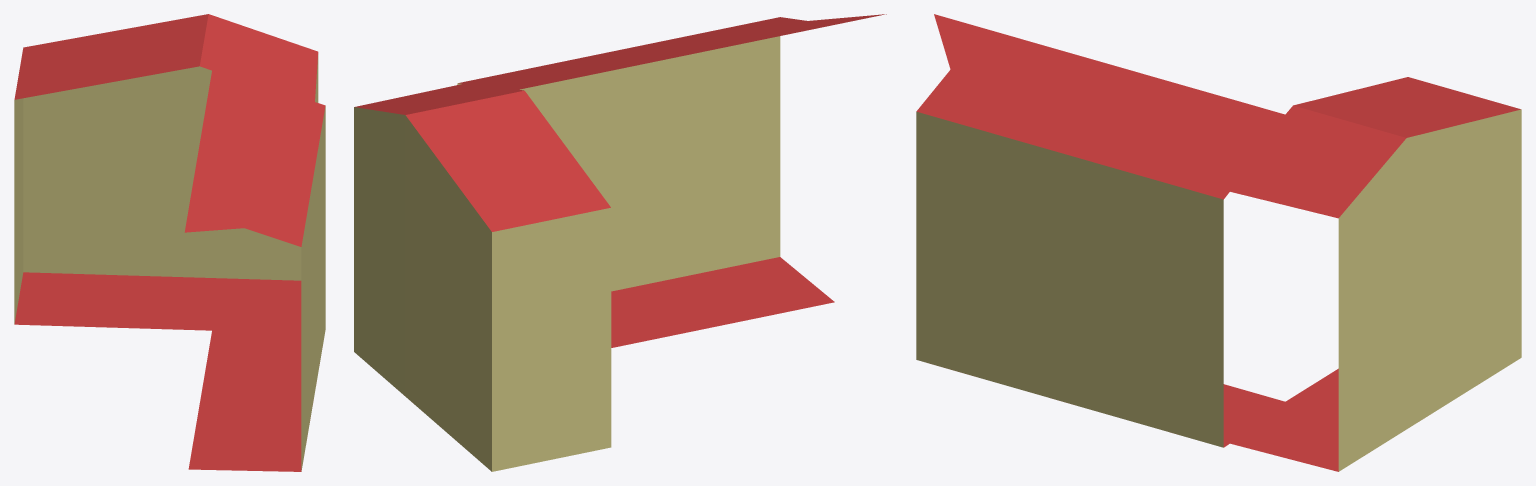
3 renders of one model, left to right at view 1: azimuth 30°, elevation 25°; view 2: azimuth 150°, elevation 25°; view 3: azimuth 270°, elevation 25°, orthographic. The views are drawn at different scales.
Parts seen in each view (by area): view 1: group_4, group_3, group_5; view 2: group_4, group_3, group_5; view 3: group_4, group_3, group_5.
Part boxes in pixels (bbox=[...]): group_4: bbox=[14, 55, 325, 471]; group_3: bbox=[14, 14, 325, 246]; group_5: bbox=[14, 272, 301, 471]; group_4: bbox=[354, 36, 780, 471]; group_3: bbox=[355, 14, 886, 231]; group_5: bbox=[611, 257, 834, 347]; group_4: bbox=[916, 109, 1521, 471]; group_3: bbox=[916, 14, 1520, 218]; group_5: bbox=[1223, 368, 1338, 471].
Size of the model in its own units: 11.45 by 17.15 by 9.11.
